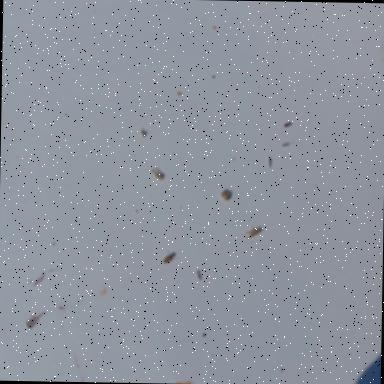pbw: (244, 225, 264, 240)
